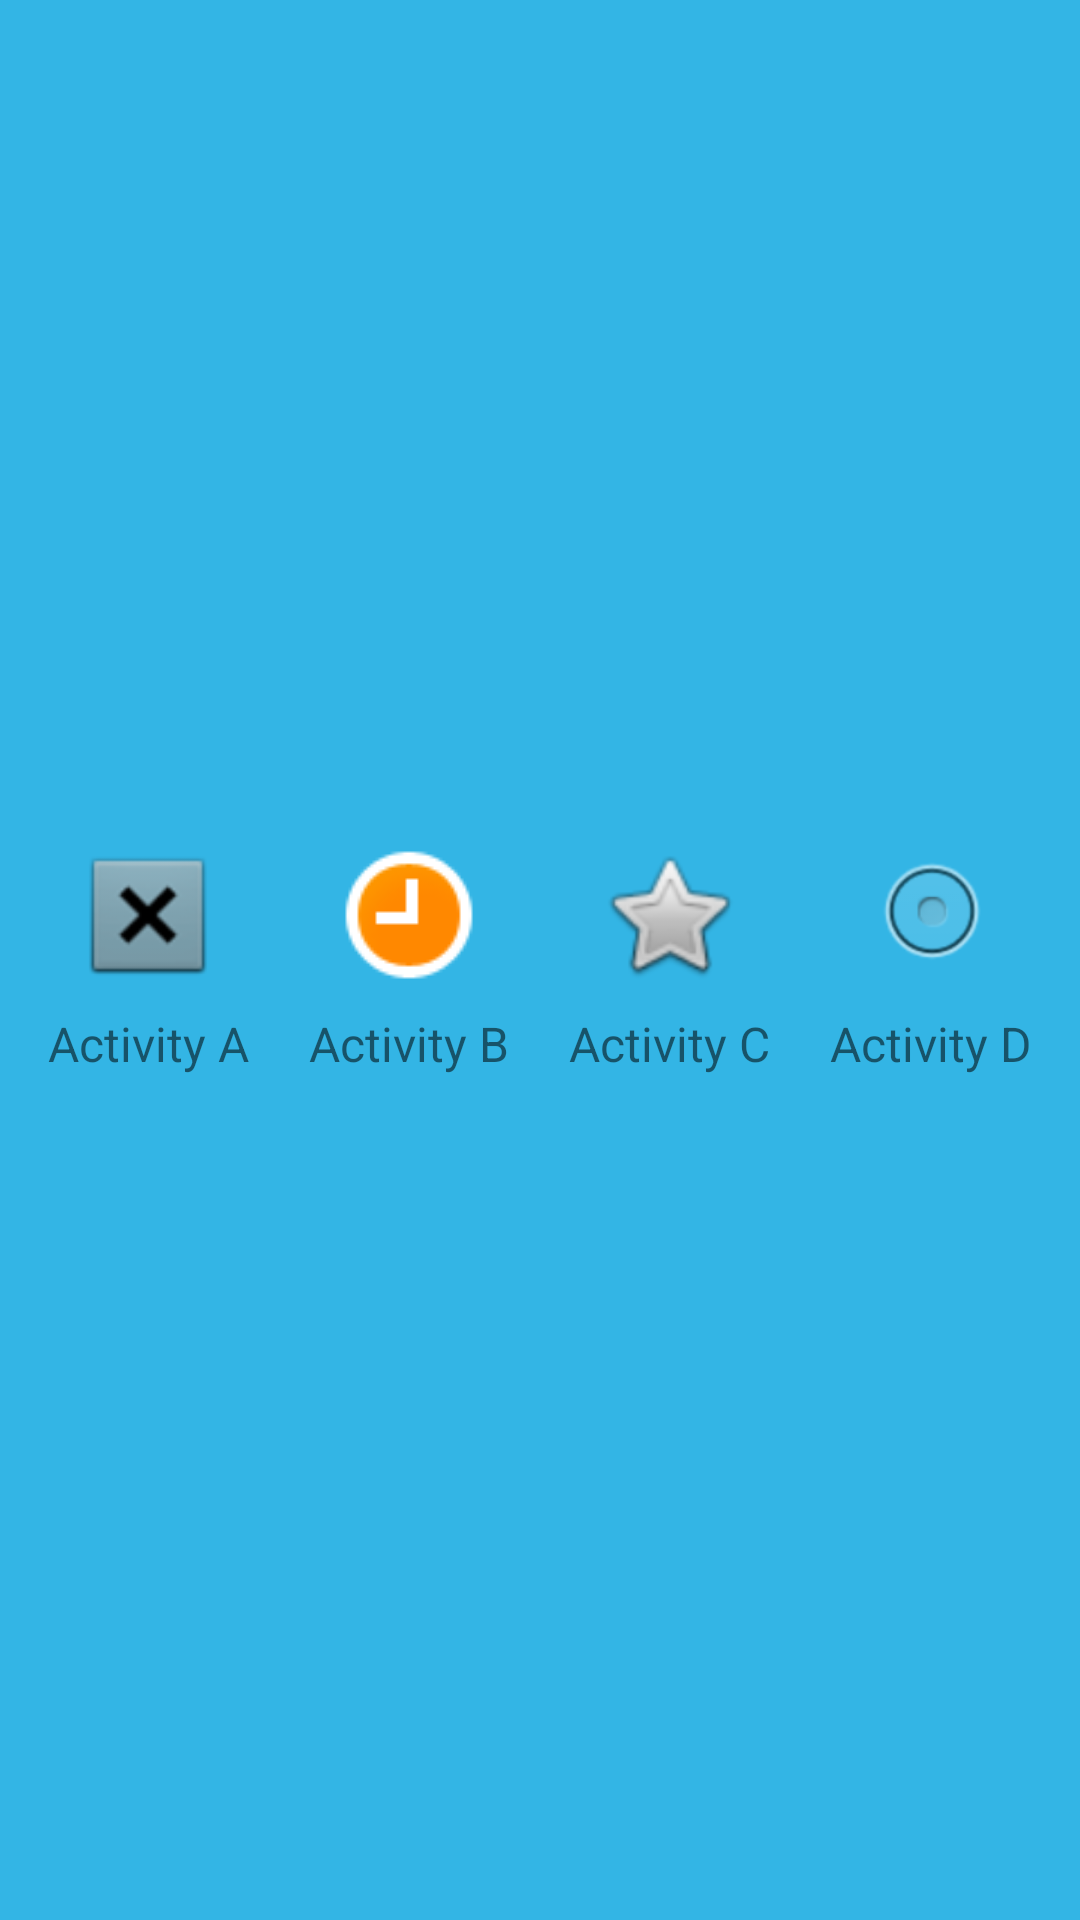

Icon bounding boxes for this 1080*1920 phone screenshot, format (x1, y1, x2, y2):
presence away: (345, 851, 473, 979)
radio: (885, 864, 979, 958)
star: (610, 858, 730, 975)
